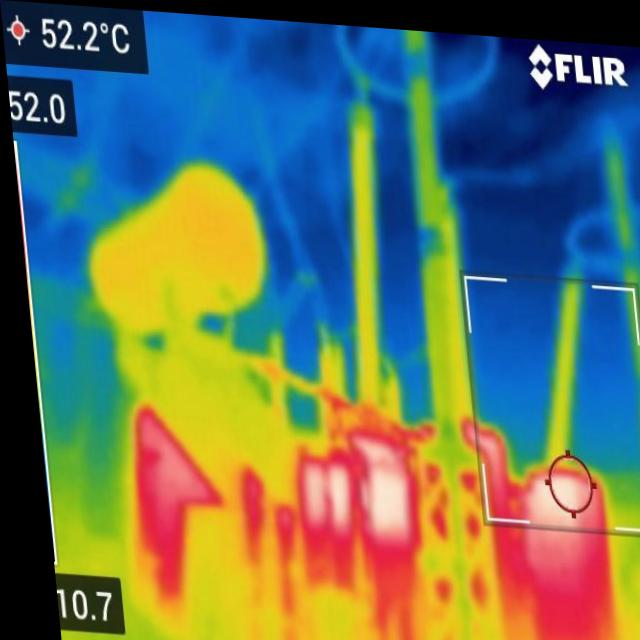Faulty: (272, 394, 439, 629), (448, 397, 630, 586), (102, 387, 234, 608), (228, 454, 307, 578)
